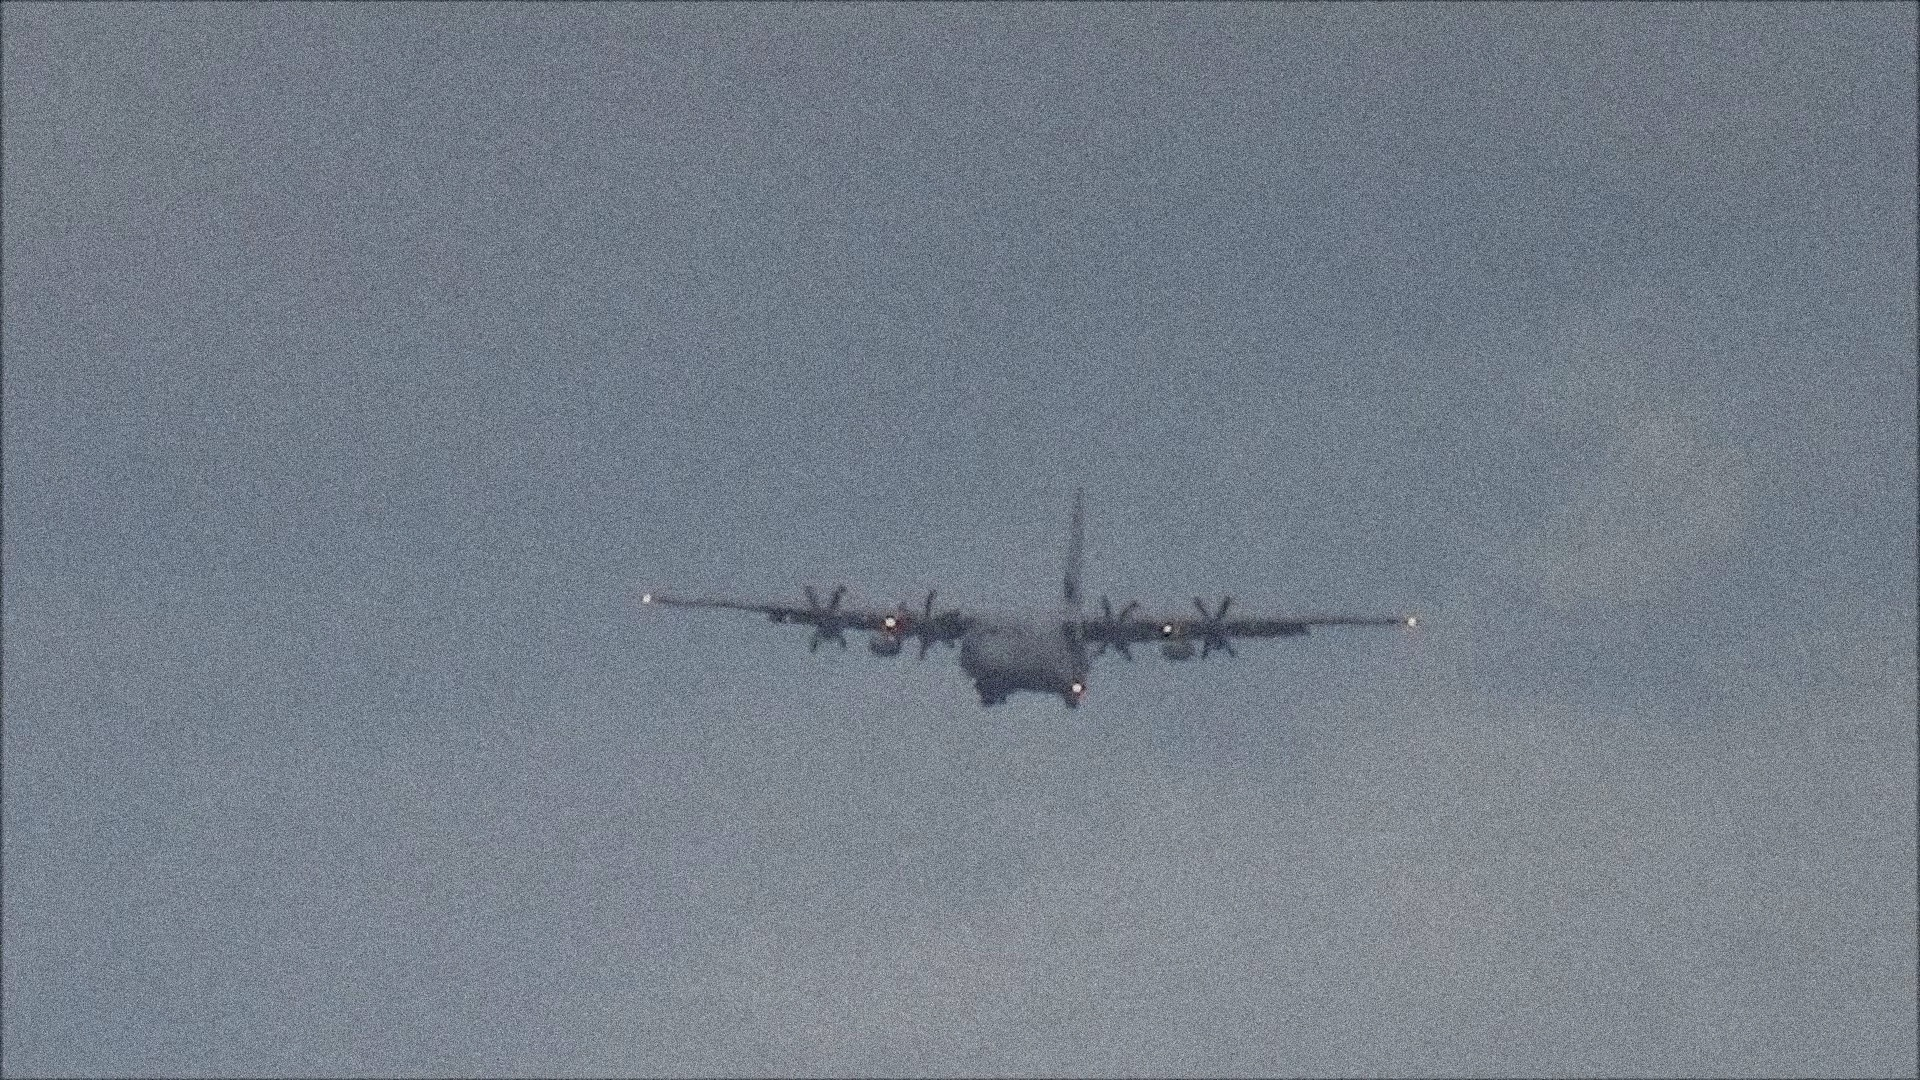Airplane: (644, 502, 1411, 705)
